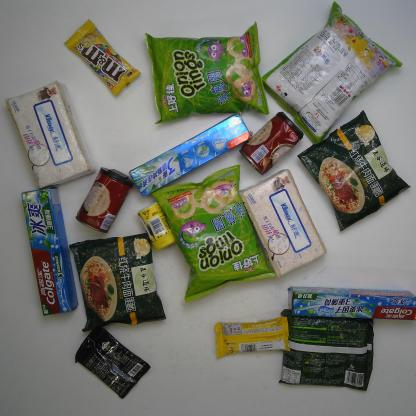Canned Food: (239, 108, 305, 176), (76, 165, 134, 234)
Chocolate: (62, 18, 141, 97), (213, 319, 290, 358)
Gum: (137, 202, 176, 251)
Instant Drink: (74, 326, 150, 400)
Instant Noodles: (298, 110, 410, 232), (68, 232, 167, 333), (279, 309, 376, 391)
Personal Hygiene: (127, 112, 251, 197), (20, 186, 79, 319), (286, 285, 415, 321)
Puffed Food: (254, 1, 404, 147), (151, 164, 276, 302), (144, 22, 269, 125)
Tissue: (239, 168, 327, 280), (4, 81, 96, 188)
